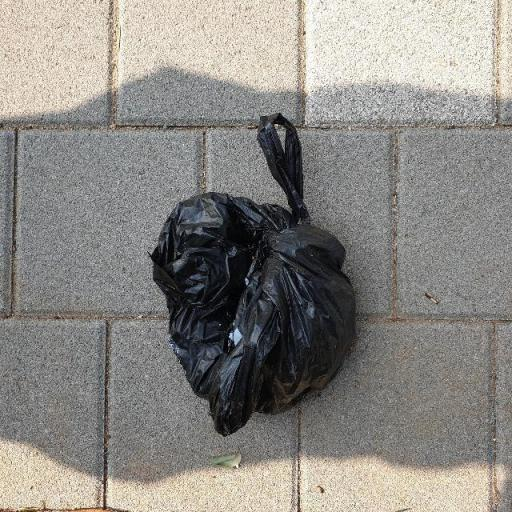plastic-bag: (147, 112, 360, 438)
